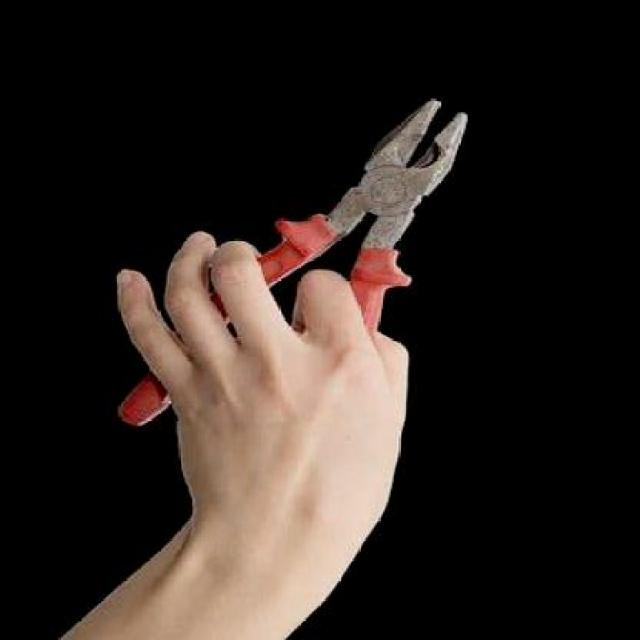pliers: (284, 96, 483, 262)
